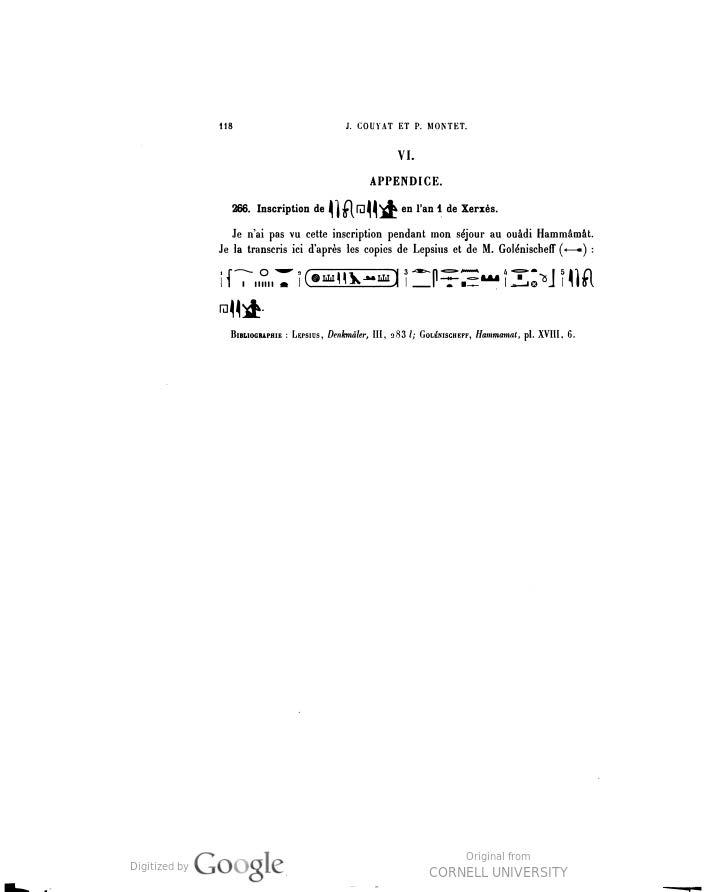circle: (302, 265, 403, 298)
